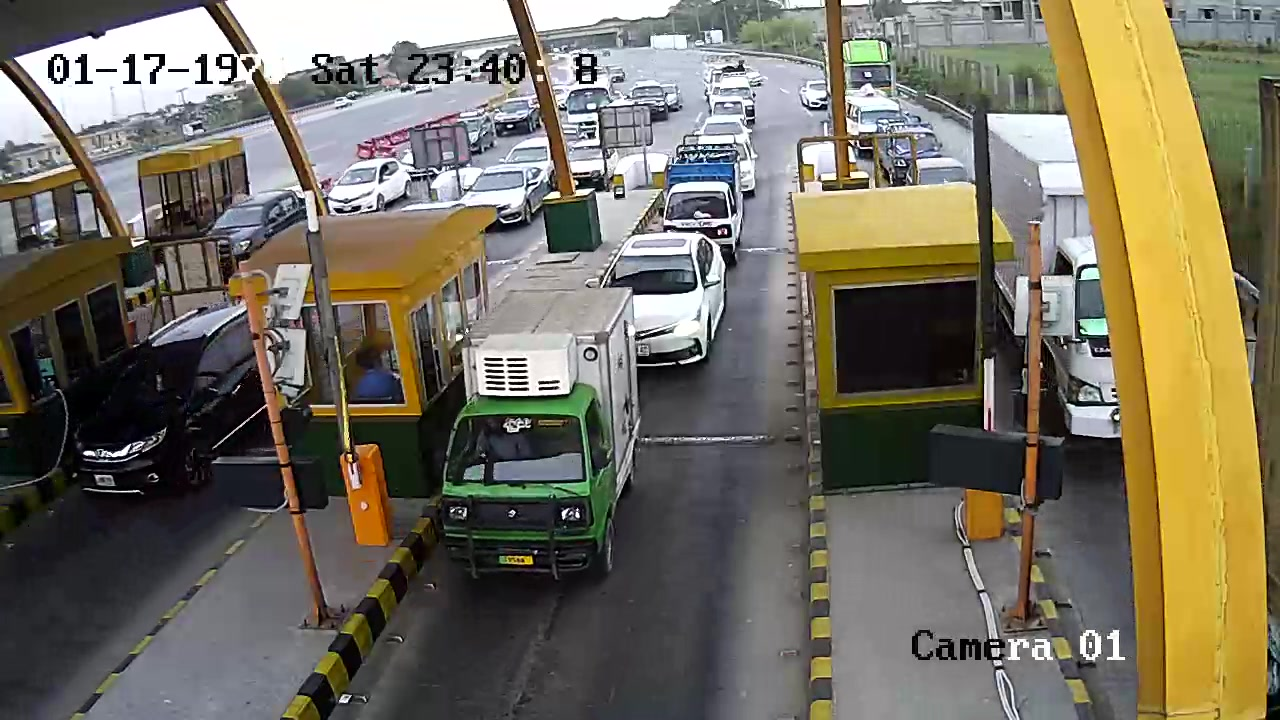F1: (430, 277, 643, 605)
